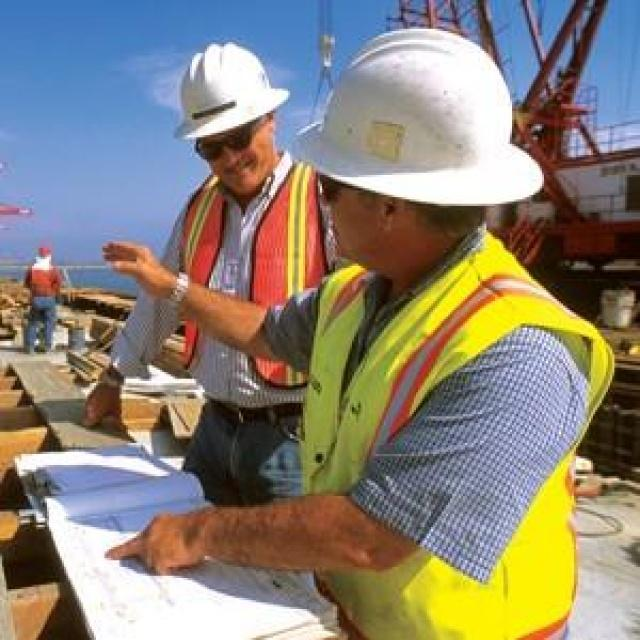helmet: (288, 29, 548, 360), (166, 46, 292, 262), (35, 324, 54, 356)
vest: (316, 335, 596, 640), (173, 236, 327, 533)
